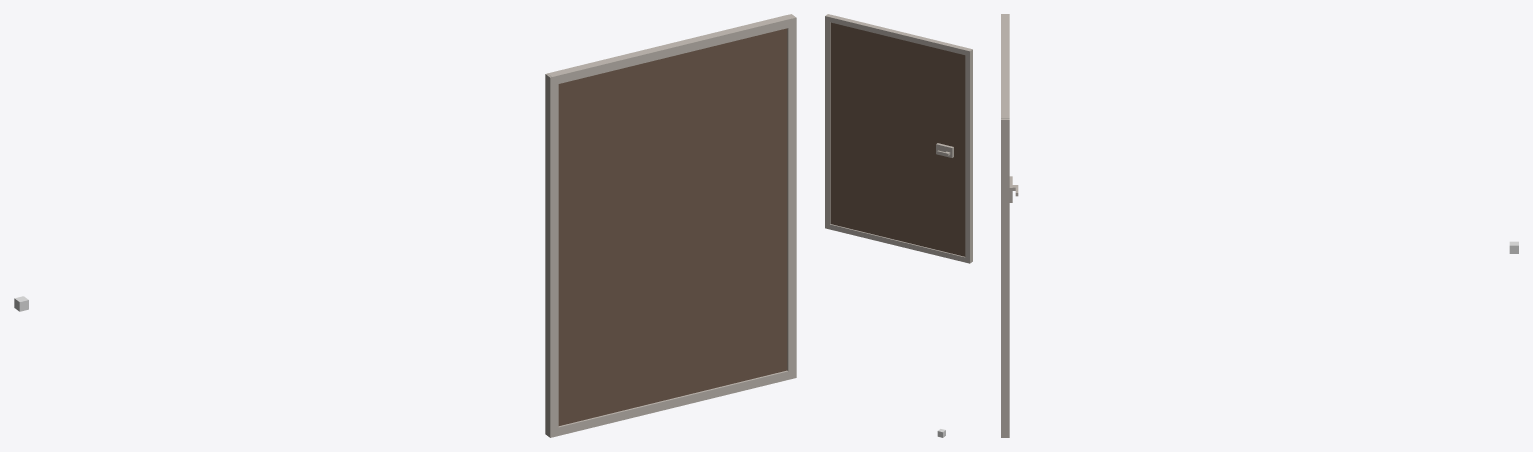
The model's file is bal1_test.glb.
The picture shows the model from 3 angles, left to right: view 1: azimuth 30°, elevation 25°; view 2: azimuth 150°, elevation 25°; view 3: azimuth 270°, elevation 25°; orthographic projection. The views are drawn at different scales.
Parts seen in each view (by area): view 1: balconyWindow2, construction11, construction5, construction6; view 2: balconyWindow2, construction11, construction5, construction6, handle; view 3: construction11, construction5.
Part boxes in pixels (x1,y1,x2,y2): balconyWindow2: (558,28,787,425); construction11: (545,14,796,437); construction5: (547,15,792,85); construction6: (552,370,792,437); balconyWindow2: (830,22,965,256); construction11: (825,14,972,263); construction5: (828,14,971,54); construction6: (830,224,965,262); handle: (936,143,953,157); construction11: (1001,14,1009,437); construction5: (1001,14,1009,118).
Size of the model in its own units: 106 by 80.33 by 111.
